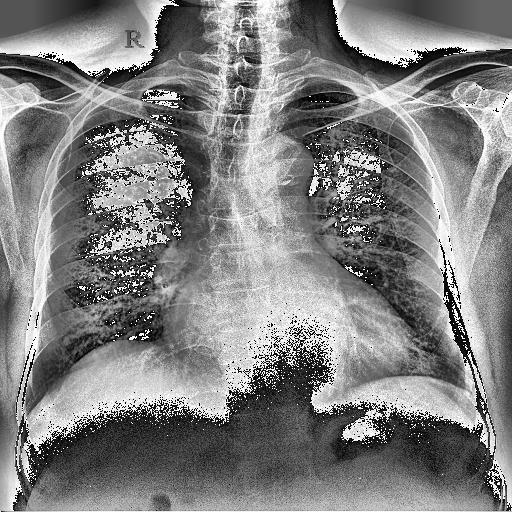2- Calcification: (58, 335, 74, 348)
5- ILD: (272, 84, 482, 395), (30, 83, 216, 407), (364, 159, 442, 368), (66, 156, 146, 332), (52, 235, 151, 344)
8- Nodule-Mass: (61, 334, 78, 350)
